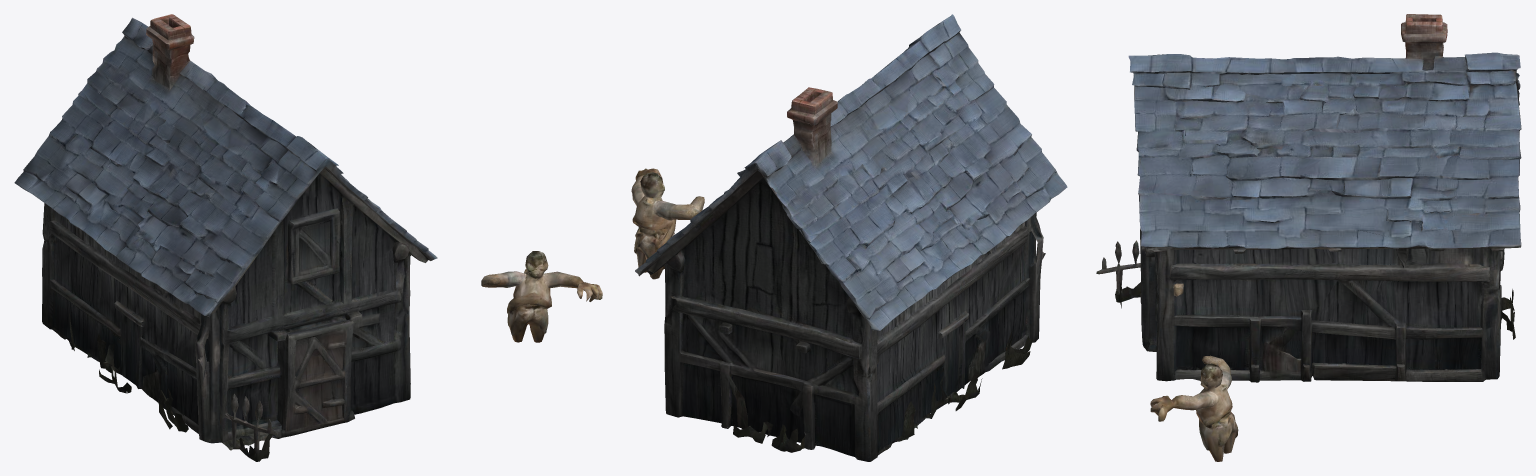
File: farm_ashen.glb
3 renders of one model, left to right at view 1: azimuth 30°, elevation 25°; view 2: azimuth 150°, elevation 25°; view 3: azimuth 270°, elevation 25°, orthographic. The views are drawn at different scales.
Visible parts, largest first — view 1: farm_ashen; view 2: farm_ashen; view 3: farm_ashen.
Part boxes in pixels (x1,y1,x2,y2): farm_ashen: (14, 14, 602, 461); farm_ashen: (631, 14, 1067, 461); farm_ashen: (1096, 14, 1521, 461).
Size of the model in its own units: 1.35 by 0.9838 by 1.2.
1 material, 1 textured.
